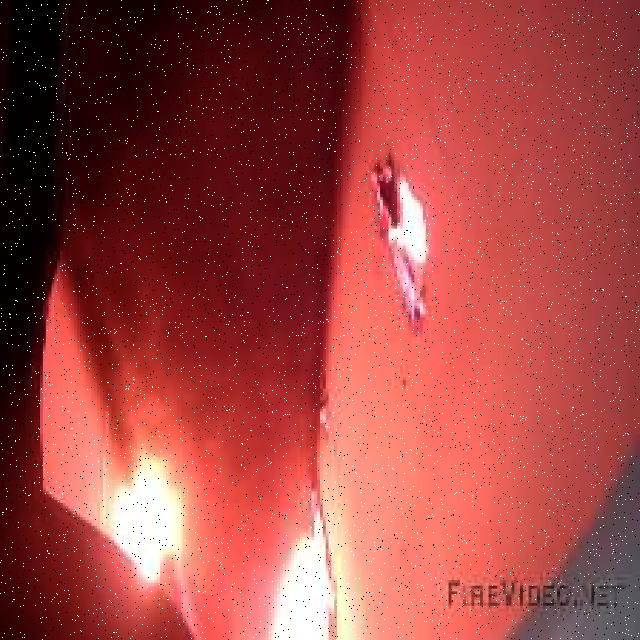fire: (106, 442, 370, 640), (374, 156, 446, 335)
